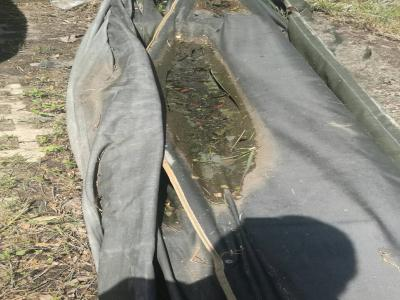plastic_bag: (70, 3, 396, 297)
